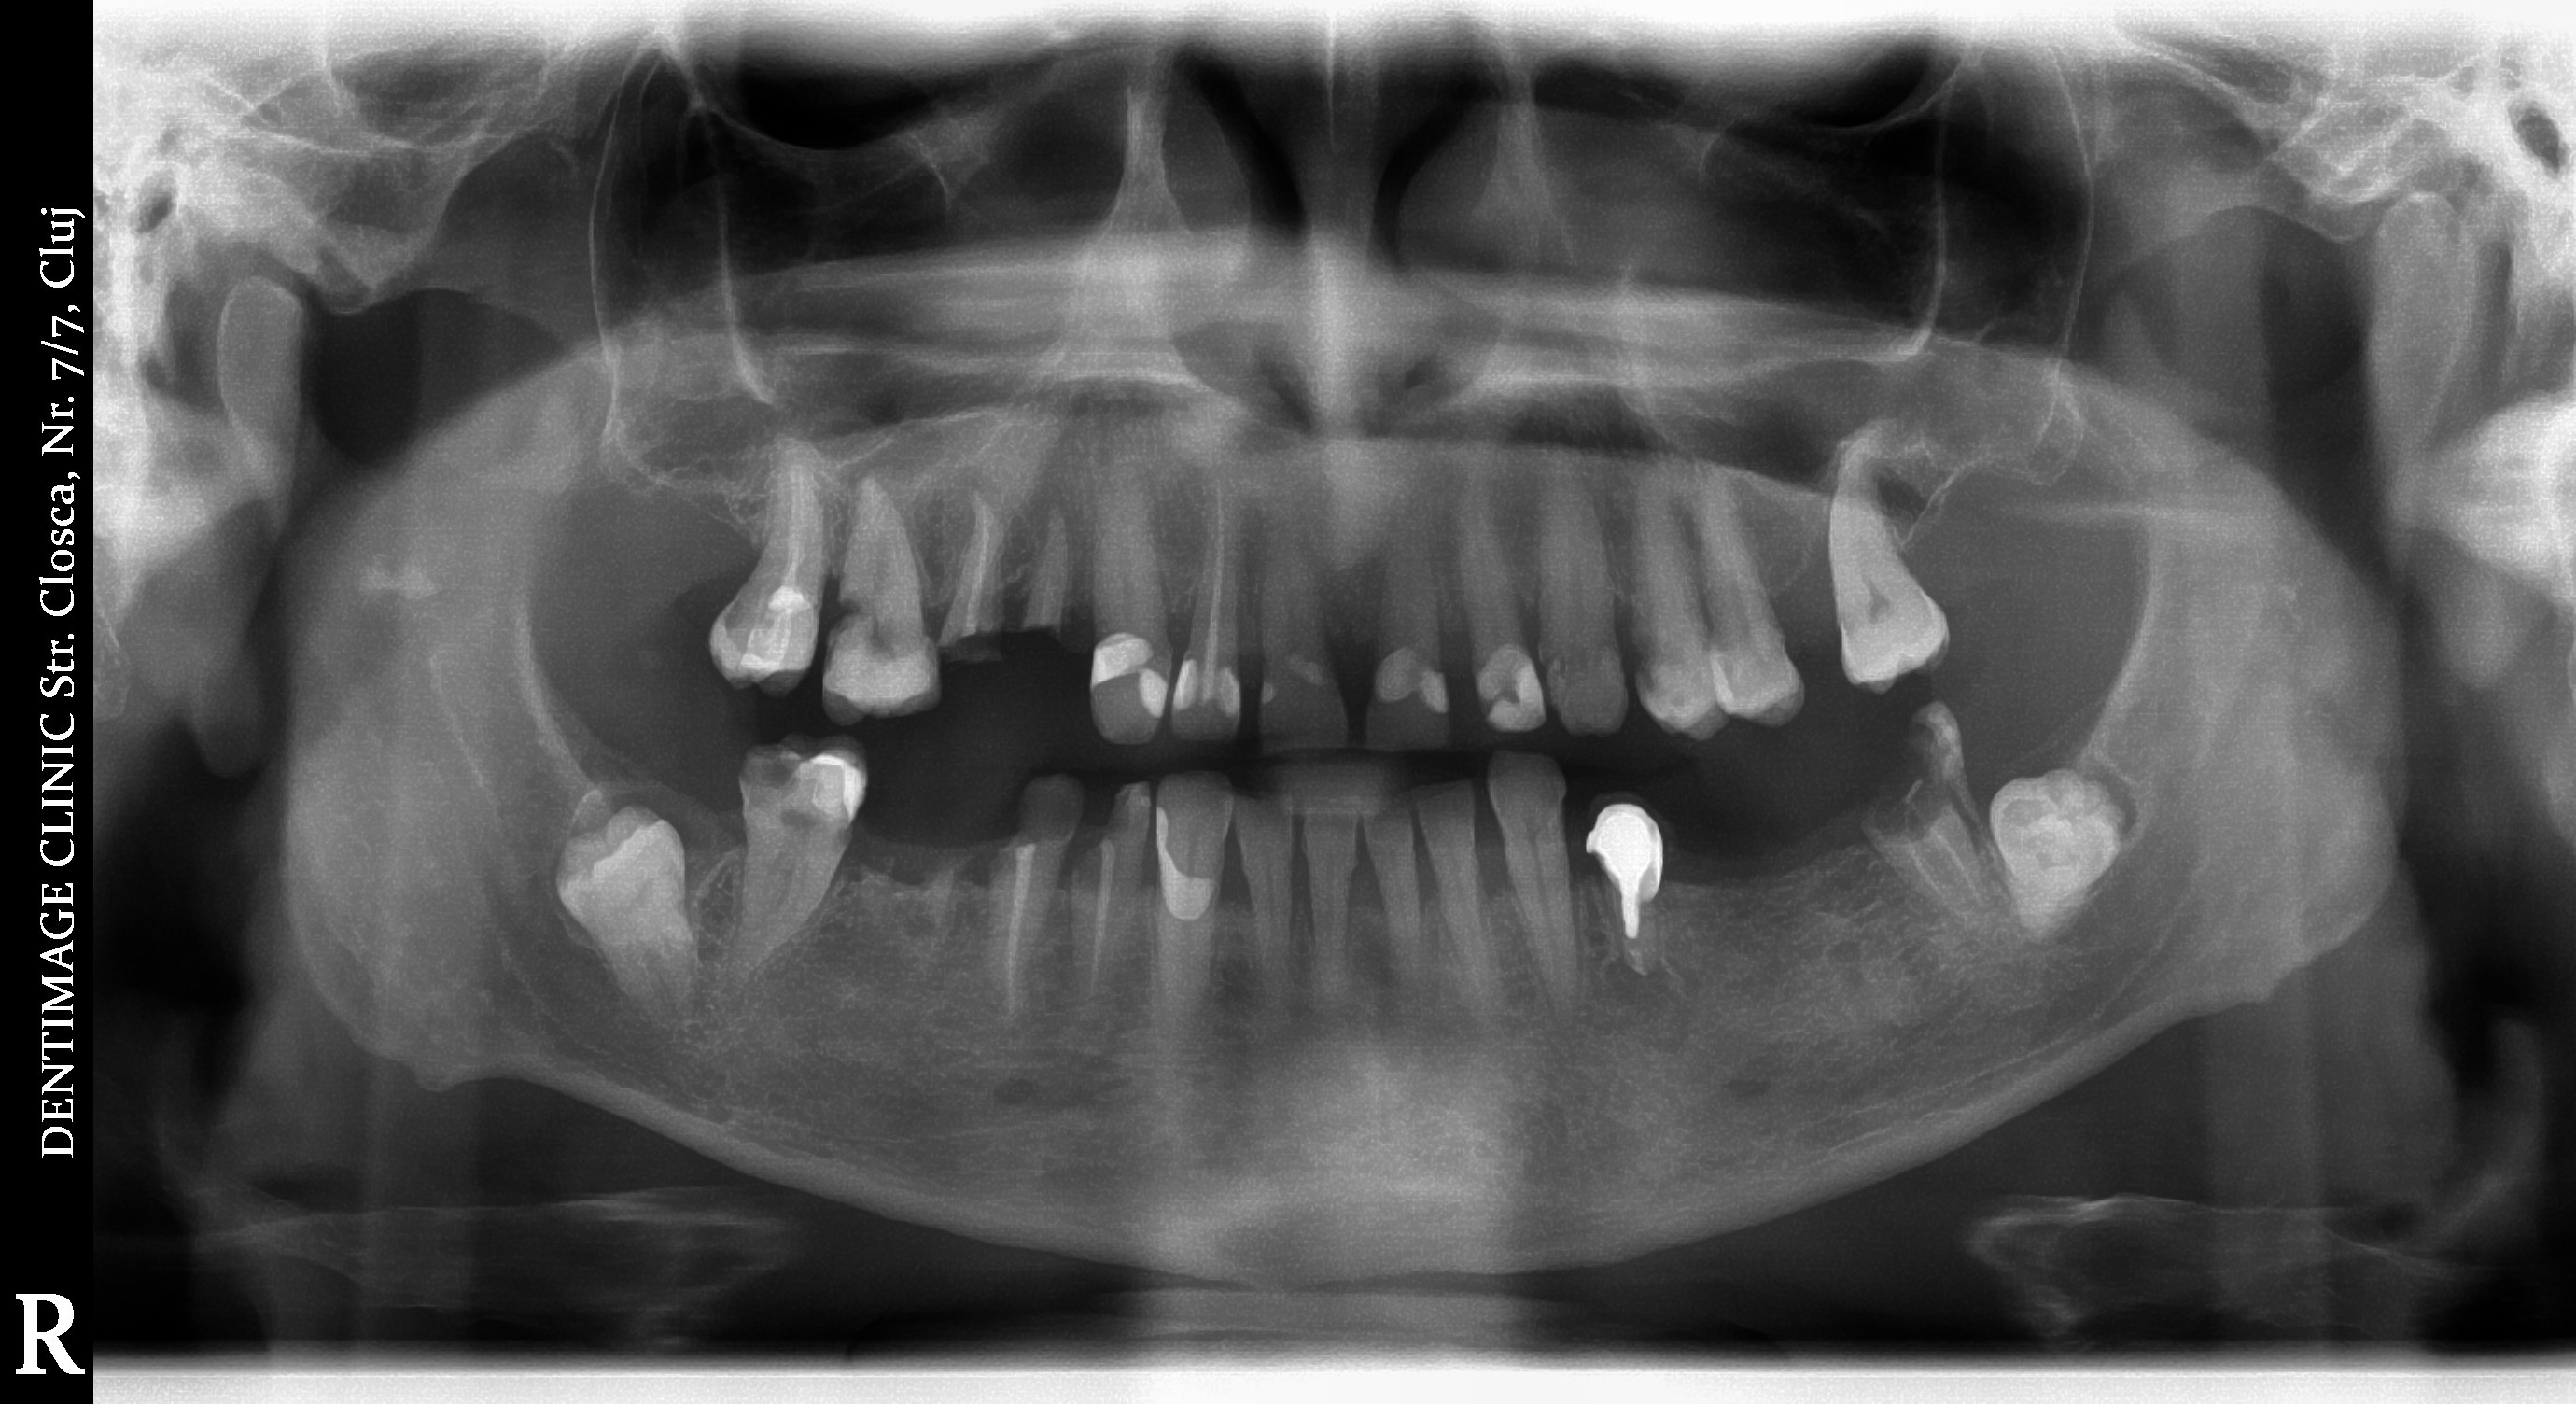API: (1602, 953, 1693, 1043)
CAR: (1856, 699, 1971, 863), (974, 766, 1090, 884), (1069, 782, 1142, 890), (720, 737, 814, 814), (819, 579, 886, 645), (1608, 629, 1676, 693), (817, 802, 878, 861)
END: (980, 837, 1049, 1039), (1080, 839, 1140, 1032), (757, 482, 828, 628), (1189, 475, 1237, 664), (947, 489, 1006, 628)
IMT: (511, 816, 757, 1043), (1978, 752, 2146, 949)
OBT: (1140, 814, 1237, 948), (1363, 641, 1474, 745), (1467, 633, 1558, 743), (1078, 622, 1166, 712), (1204, 652, 1254, 742), (1272, 645, 1346, 697), (1164, 652, 1209, 735), (1123, 654, 1163, 719), (1253, 666, 1292, 712)
PRR: (1579, 792, 1691, 930)
ROT: (1004, 493, 1083, 624)
